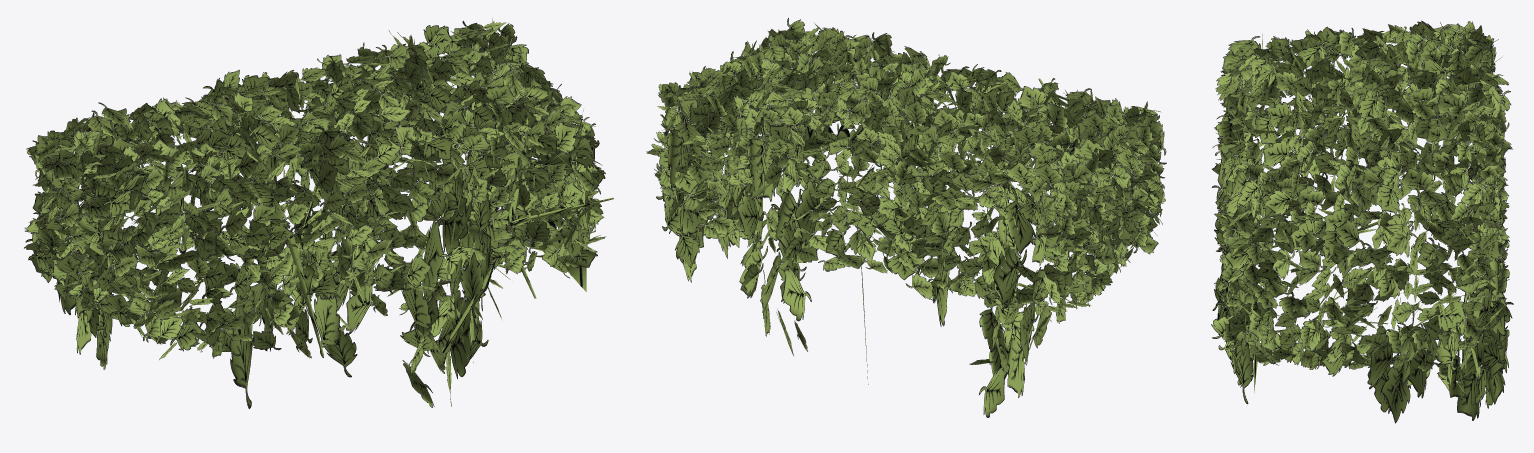
Rendered from Square_Bush 1.FBX.
3 views of the same model, side by side, from view 1: azimuth 30°, elevation 25°; view 2: azimuth 150°, elevation 25°; view 3: azimuth 270°, elevation 25° (orthographic). The views are drawn at different scales.
Parts seen in each view (by area): view 1: Square_Bush; view 2: Square_Bush; view 3: Square_Bush.
Boxes of the visible parts, <box> form: Square_Bush: <box>24,18,613,408</box>; Square_Bush: <box>646,18,1166,417</box>; Square_Bush: <box>1211,20,1513,423</box>.
Bounding box in the file's own units: 10585 × 7170 × 5977.
Materials: 2 (2 with a texture image).
